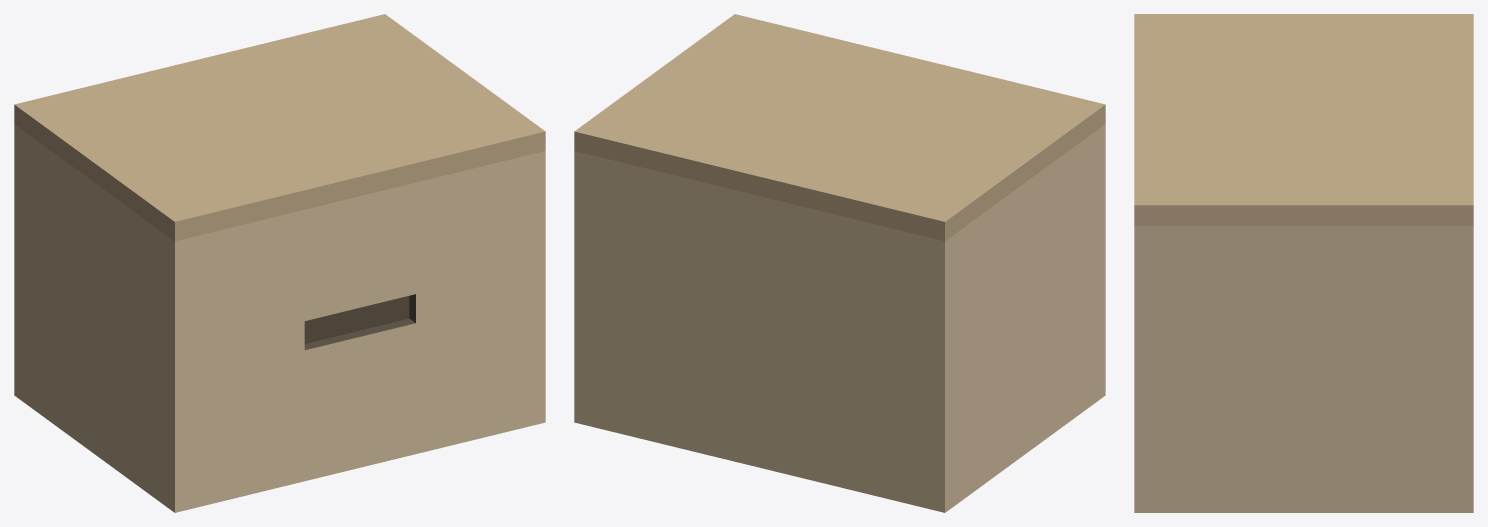
3 views of the same model, side by side, from view 1: azimuth 30°, elevation 25°; view 2: azimuth 150°, elevation 25°; view 3: azimuth 270°, elevation 25° (orthographic). The views are drawn at different scales.
Visible parts, largest first — view 1: box-col; view 2: box-col; view 3: box-col.
Boxes of the visible parts, x1,y1,x2,y2 form: box-col: (14, 14, 545, 512); box-col: (574, 14, 1105, 512); box-col: (1134, 14, 1473, 512).
Bounding box in the file's own units: 0.4 × 0.3 × 0.3.
